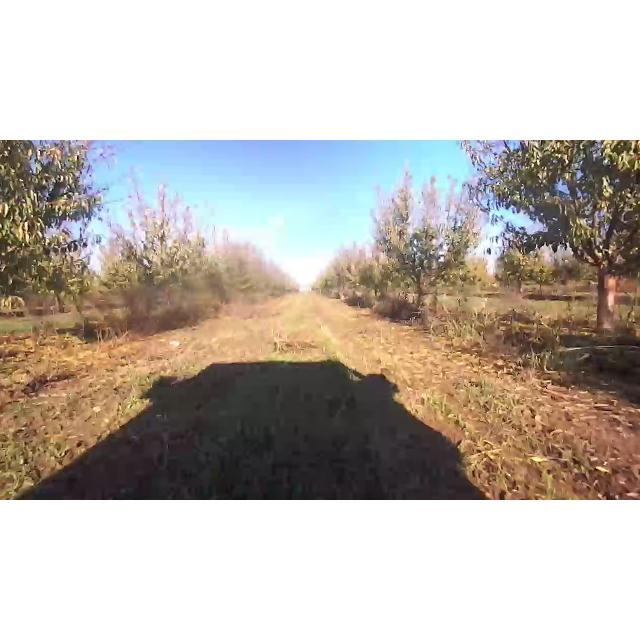tree: (488, 144, 640, 342), (0, 141, 110, 311), (358, 170, 482, 320), (106, 174, 198, 328), (494, 238, 540, 302)
